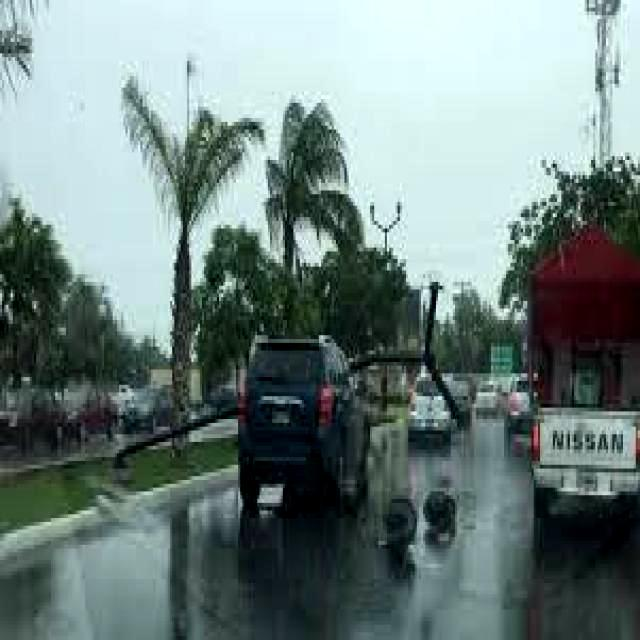Broken Pole: (112, 279, 466, 466)
